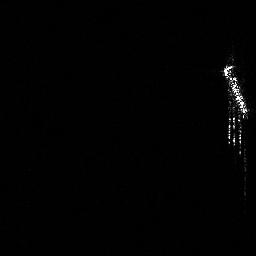ship: (218, 58, 256, 156)
